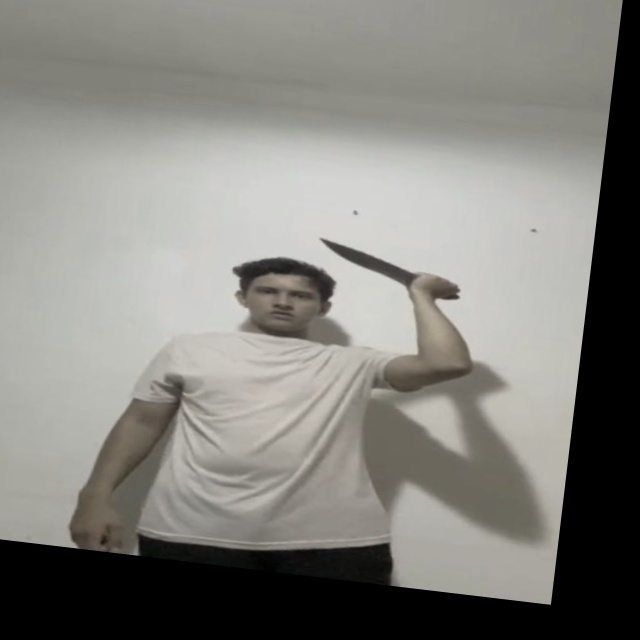Sharp-Object: (320, 238, 417, 286)
